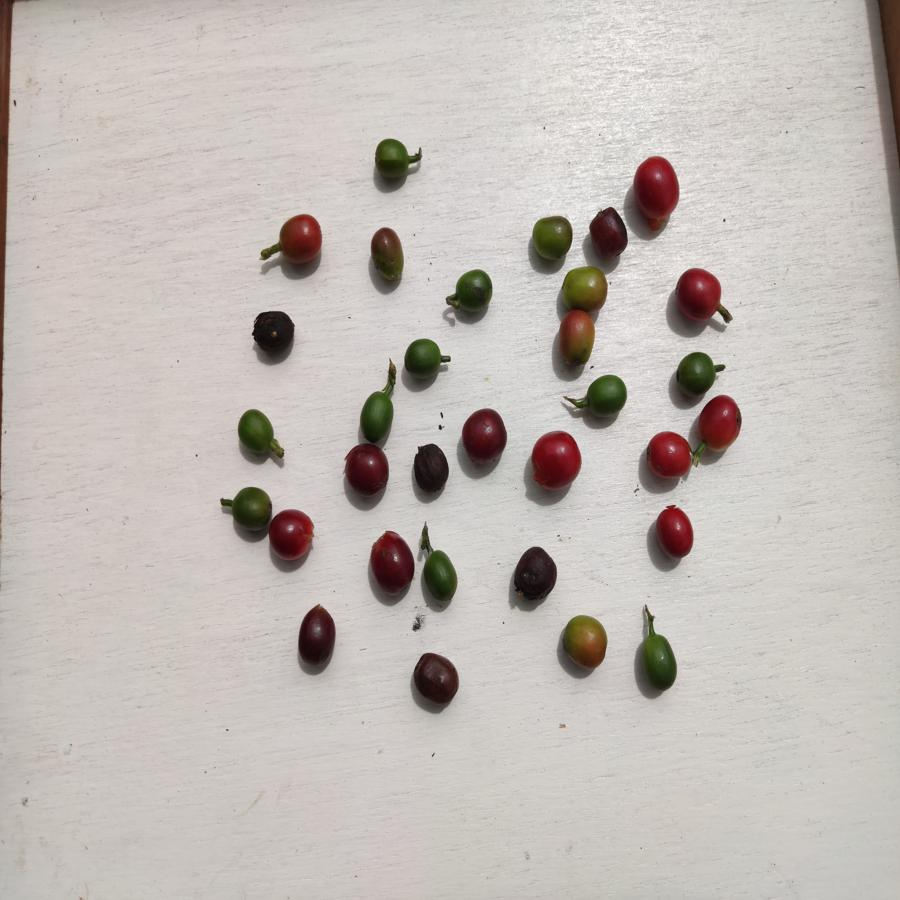Inmaduro: (637, 633, 682, 697), (420, 548, 459, 605), (227, 483, 271, 533), (235, 408, 277, 459), (450, 268, 493, 317), (675, 350, 715, 399), (359, 392, 397, 441), (403, 336, 445, 380), (585, 374, 627, 418), (373, 139, 412, 186)
Maduro: (671, 265, 725, 324), (634, 153, 680, 221), (530, 429, 580, 490), (697, 396, 745, 457), (275, 212, 324, 268), (644, 432, 697, 480), (654, 505, 698, 562), (271, 508, 316, 562)
Pinton: (560, 611, 610, 673), (366, 224, 408, 287), (558, 264, 609, 314), (527, 211, 573, 265), (556, 312, 598, 367)
Sobremaduro: (368, 529, 417, 598), (458, 406, 511, 468), (411, 651, 466, 708), (510, 545, 560, 607), (295, 605, 339, 668), (345, 444, 393, 500), (588, 207, 630, 259), (250, 312, 300, 354), (412, 443, 448, 495)
